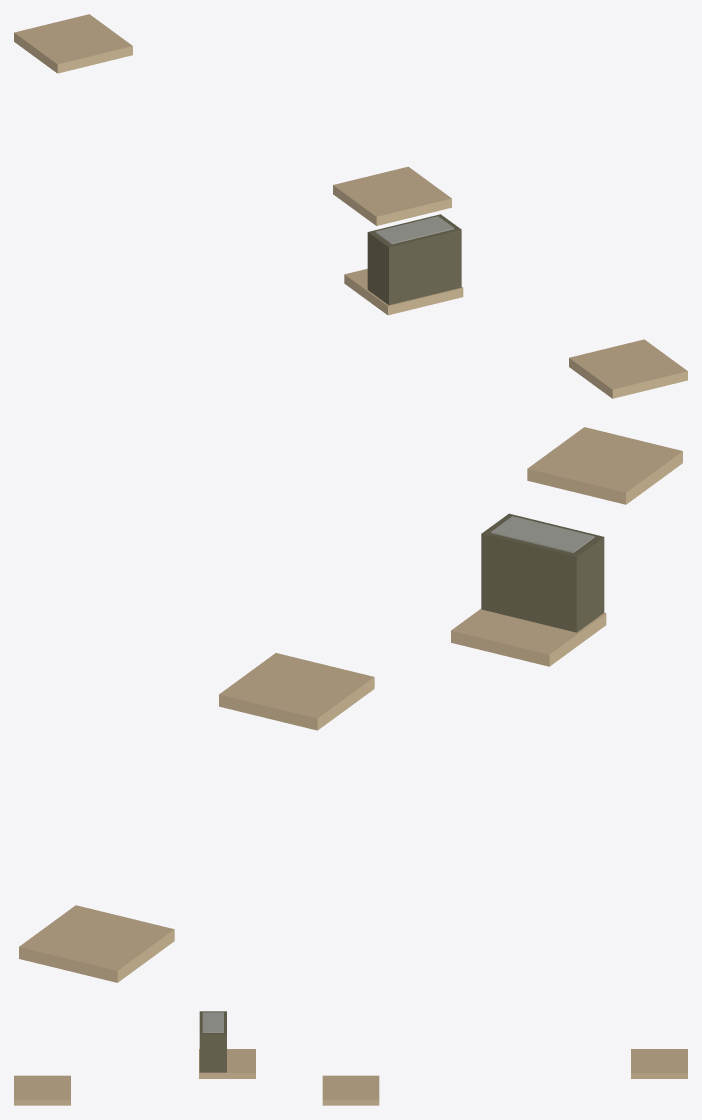
Rendered from SM_CargaCombustible_Vacio_LOD1.fbx.
3 views of the same model, one above another, from view 1: azimuth 30°, elevation 25°; view 2: azimuth 150°, elevation 25°; view 3: azimuth 270°, elevation 25° (orthographic). The views are drawn at different scales.
Parts seen in each view (by area): view 1: SM_carga_vagon_v7_LOD1; view 2: SM_carga_vagon_v7_LOD1; view 3: SM_carga_vagon_v7_LOD1.
Boxes of the visible parts, left/top/right/bottom form: SM_carga_vagon_v7_LOD1: left=14, top=14, right=687, bottom=398; SM_carga_vagon_v7_LOD1: left=19, top=427, right=682, bottom=982; SM_carga_vagon_v7_LOD1: left=14, top=1011, right=687, bottom=1105.
Size of the model in its own units: 2.52 by 1.04 by 14.2.
